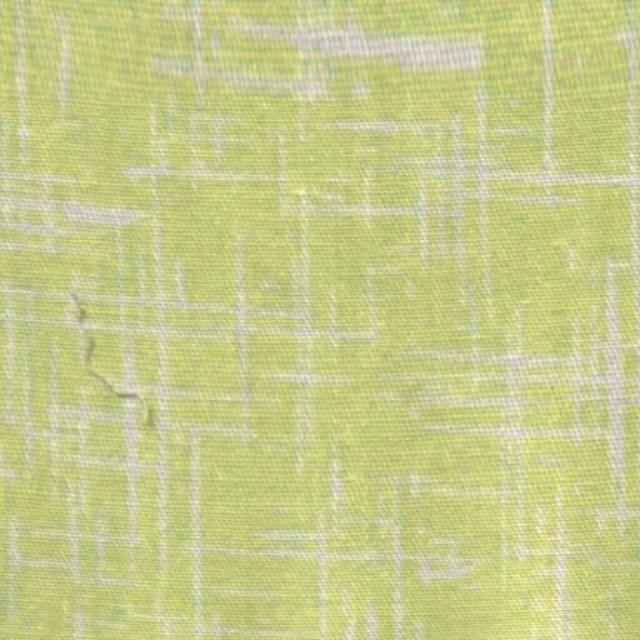stain: (72, 291, 148, 421)
